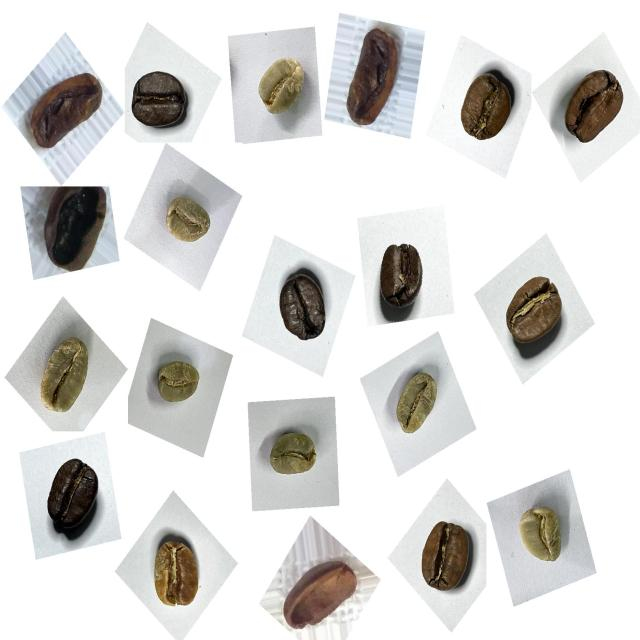bad: (334, 18, 410, 138), (20, 58, 109, 158), (34, 176, 117, 280), (280, 548, 367, 636)
dark: (35, 445, 108, 548), (266, 256, 336, 351), (370, 228, 438, 323), (123, 55, 196, 140)
green: (28, 324, 102, 425), (382, 360, 449, 450), (246, 45, 315, 129), (510, 493, 576, 578), (260, 419, 326, 493), (156, 187, 217, 254), (148, 348, 208, 416)
light: (142, 524, 212, 620)
medium: (552, 60, 636, 162), (493, 262, 576, 365), (449, 61, 526, 154), (403, 512, 481, 603)
